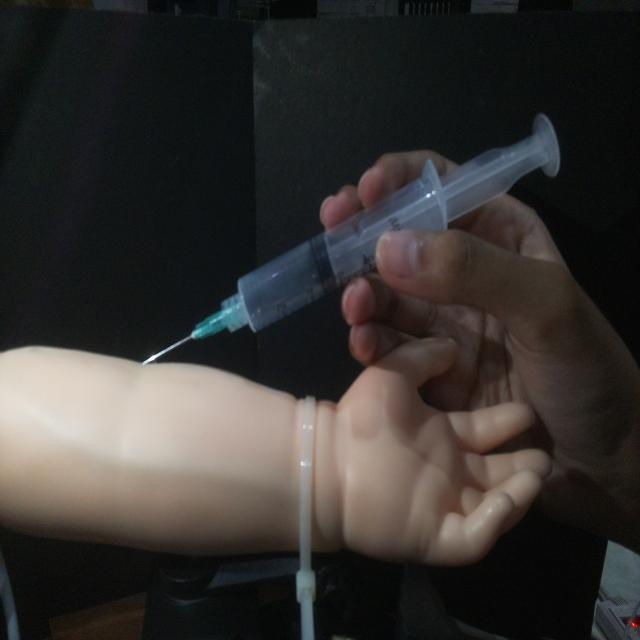23deg: (138, 107, 564, 368)
